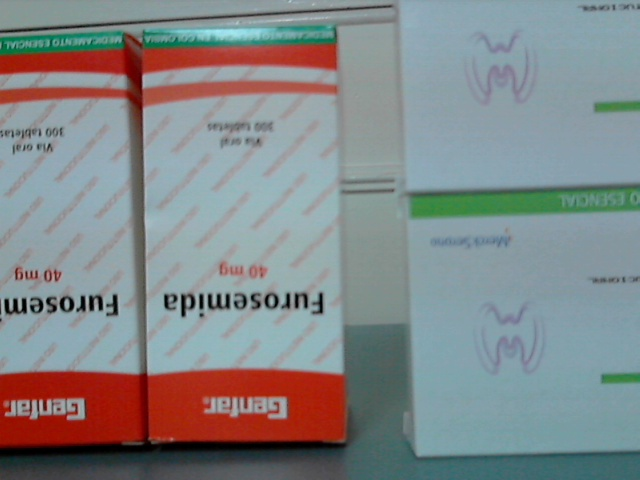Genfar: (144, 30, 345, 445)
